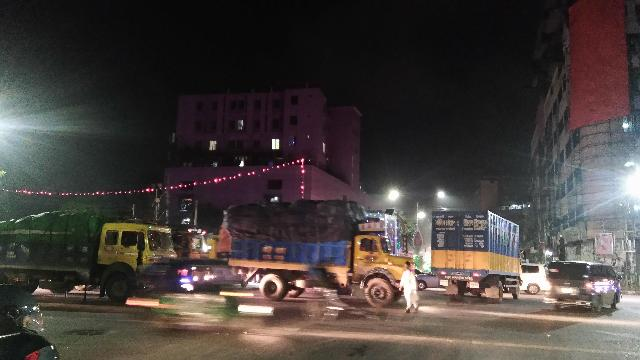truck: (219, 194, 420, 305), (0, 198, 178, 303), (428, 201, 522, 310)
van: (541, 256, 624, 319)
